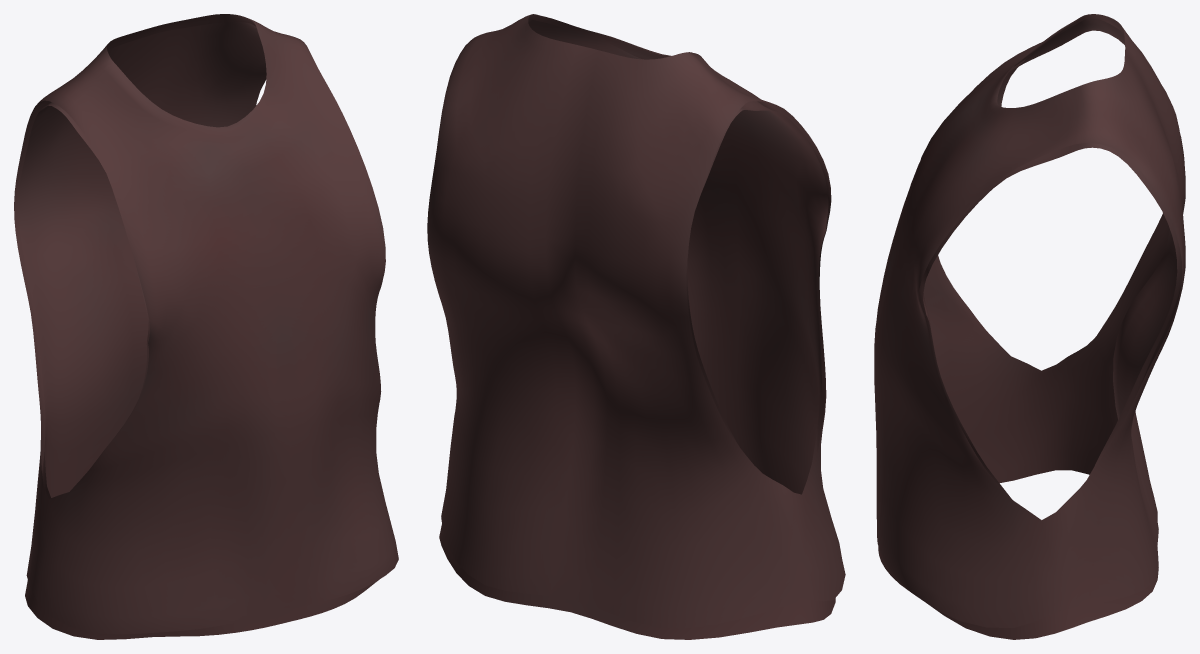
Rendered from SKM_Azachiel_Simulation_TankTop.fbx.
3 views of the same model, side by side, from view 1: azimuth 30°, elevation 25°; view 2: azimuth 150°, elevation 25°; view 3: azimuth 270°, elevation 25° (orthographic). The views are drawn at different scales.
Visible parts, largest first — view 1: tankTop_LOD1; view 2: tankTop_LOD1; view 3: tankTop_LOD1.
Part boxes in pixels (x1,y1,x2,y2): tankTop_LOD1: (14,14,398,639); tankTop_LOD1: (427,14,845,639); tankTop_LOD1: (874,14,1185,639).
Size of the model in its own units: 34.42 by 50.41 by 27.72.
